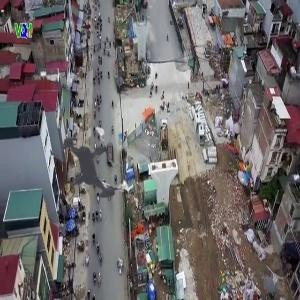drone: (25, 99, 156, 230)
